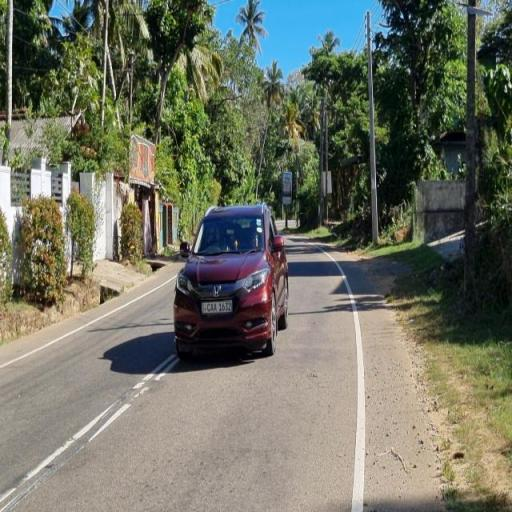double_white_line: (3, 351, 176, 512)
